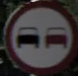No overtake: (4, 4, 72, 62)
